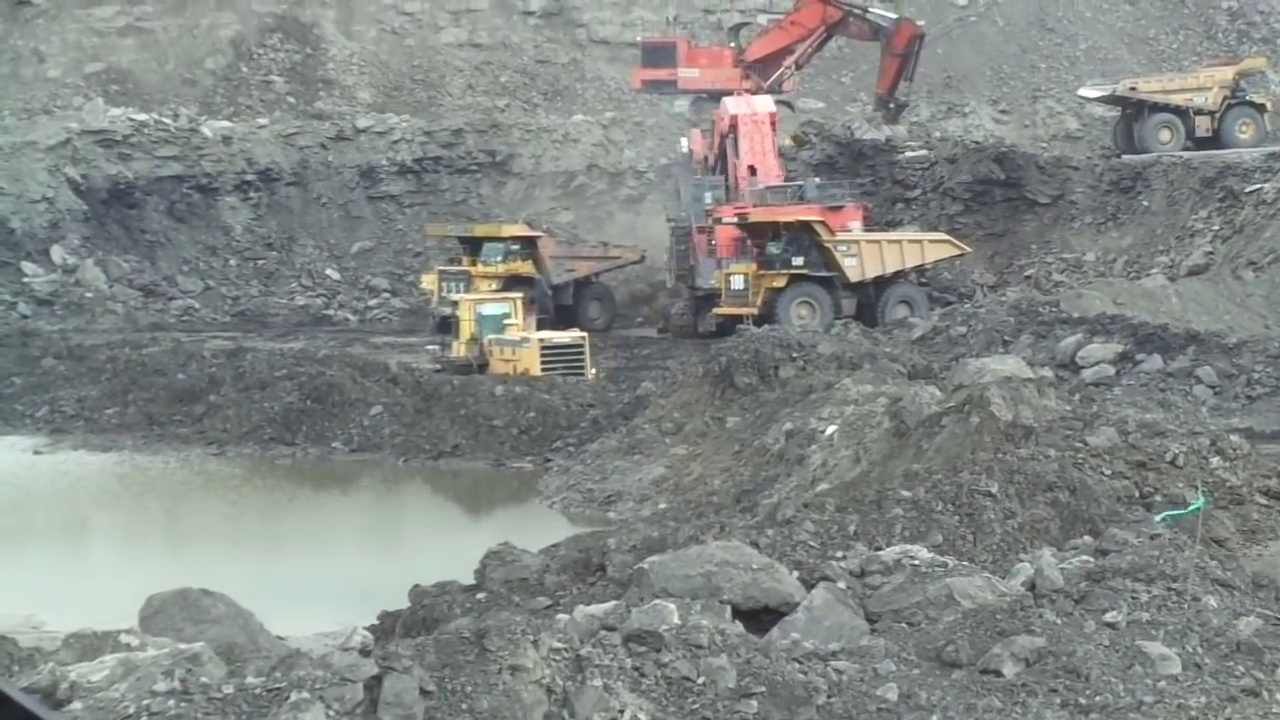dumper: (717, 218, 973, 340), (419, 220, 646, 334), (1074, 55, 1280, 156)
excavator: (632, 2, 930, 348)
